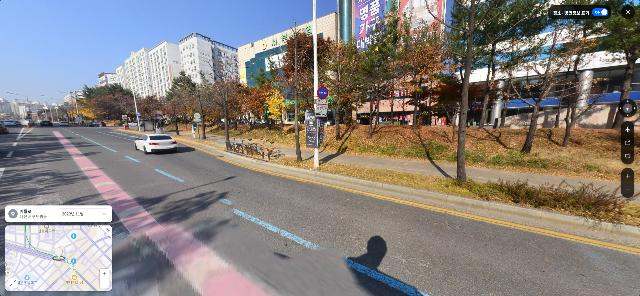ginkgo: (264, 81, 287, 137), (78, 96, 97, 125)
other: (513, 0, 639, 154), (422, 0, 519, 182), (451, 0, 553, 142), (394, 0, 462, 125), (357, 4, 417, 137), (276, 16, 324, 161), (316, 25, 369, 141), (207, 51, 244, 150), (241, 68, 284, 135), (191, 63, 220, 140), (83, 82, 134, 125), (171, 74, 198, 135), (164, 84, 190, 135), (137, 98, 160, 130)
